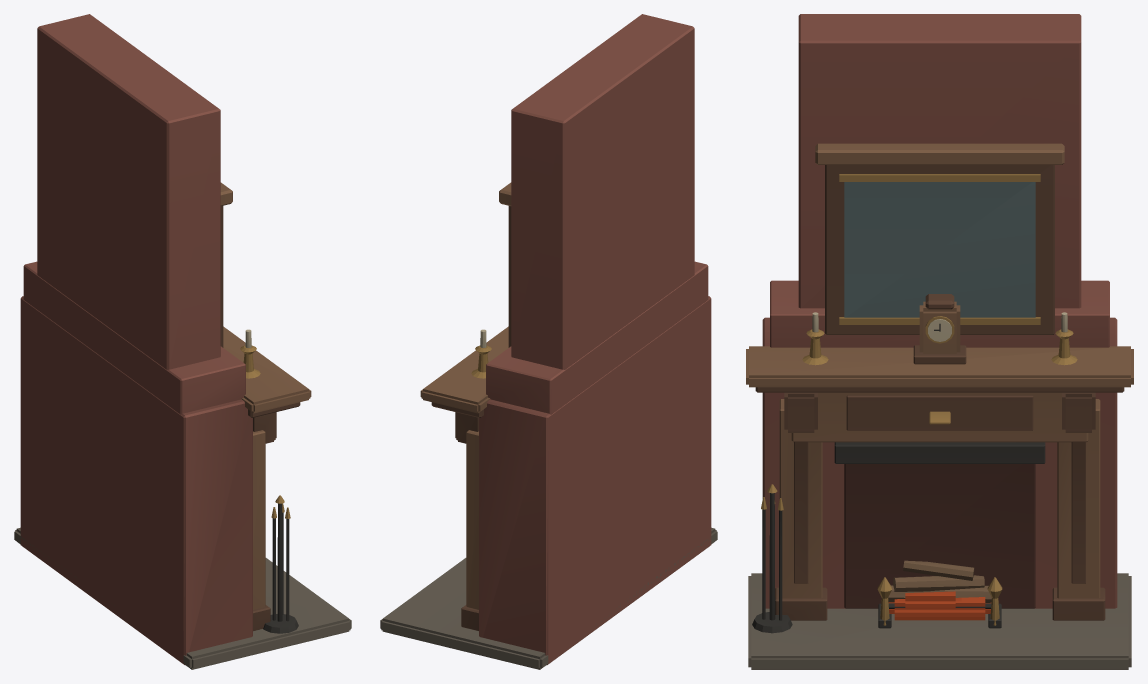
Rendered from hargrove_fireplace.glb.
3 views of the same model, side by side, from view 1: azimuth 30°, elevation 25°; view 2: azimuth 150°, elevation 25°; view 3: azimuth 270°, elevation 25° (orthographic). The views are drawn at different scales.
Parts seen in each view (by area): view 1: hargrove_fireplace; view 2: hargrove_fireplace; view 3: hargrove_fireplace.
Part boxes in pixels (x1,y1,x2,y2): hargrove_fireplace: (14, 14, 351, 669); hargrove_fireplace: (380, 14, 717, 669); hargrove_fireplace: (746, 14, 1133, 669).
Bounding box in the file's own units: 0.84 × 2.64 × 1.62.
